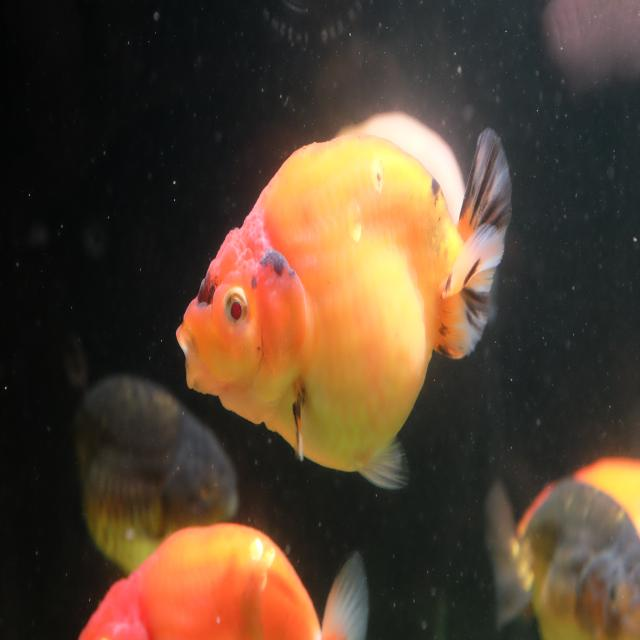Tilapia: (174, 124, 512, 492)
